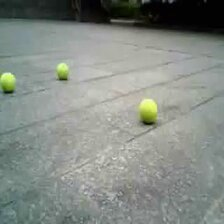tennis: (137, 99, 159, 122), (1, 73, 17, 92), (56, 63, 69, 79)
